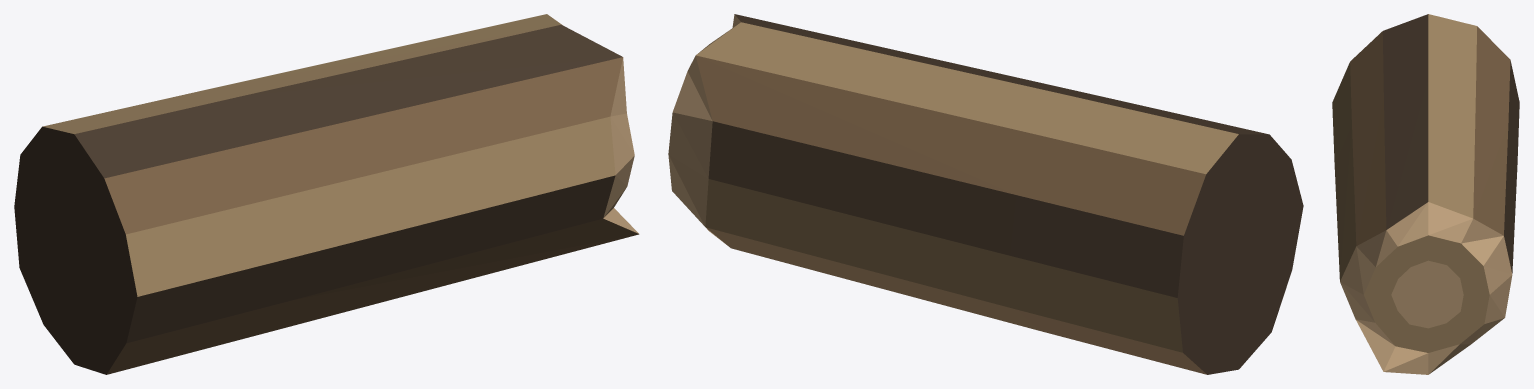
The model's file is TW_LOG_BROKEN_15M_A_LOD0.glb.
The picture shows the model from 3 angles, left to right: view 1: azimuth 30°, elevation 25°; view 2: azimuth 150°, elevation 25°; view 3: azimuth 270°, elevation 25°; orthographic projection. The views are drawn at different scales.
Parts seen in each view (by area): view 1: TW_LOG_BROKEN_15M_A_LOD0; view 2: TW_LOG_BROKEN_15M_A_LOD0; view 3: TW_LOG_BROKEN_15M_A_LOD0.
Boxes of the visible parts, x1,y1,x2,y2 form: TW_LOG_BROKEN_15M_A_LOD0: [14, 14, 639, 374]; TW_LOG_BROKEN_15M_A_LOD0: [668, 14, 1303, 374]; TW_LOG_BROKEN_15M_A_LOD0: [1332, 14, 1519, 374].
Bounding box in the file's own units: 1.5 × 0.6163 × 0.5976.
1 material, 1 textured.
